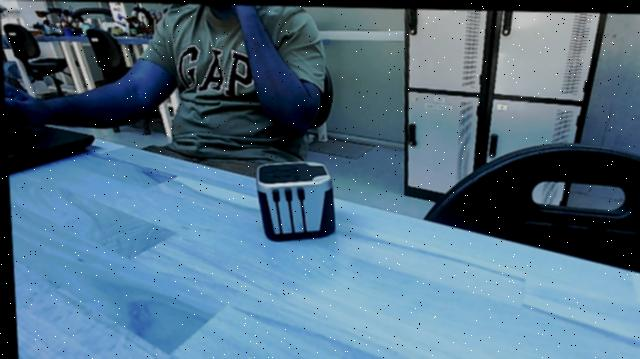adapter: (245, 158, 339, 246)
